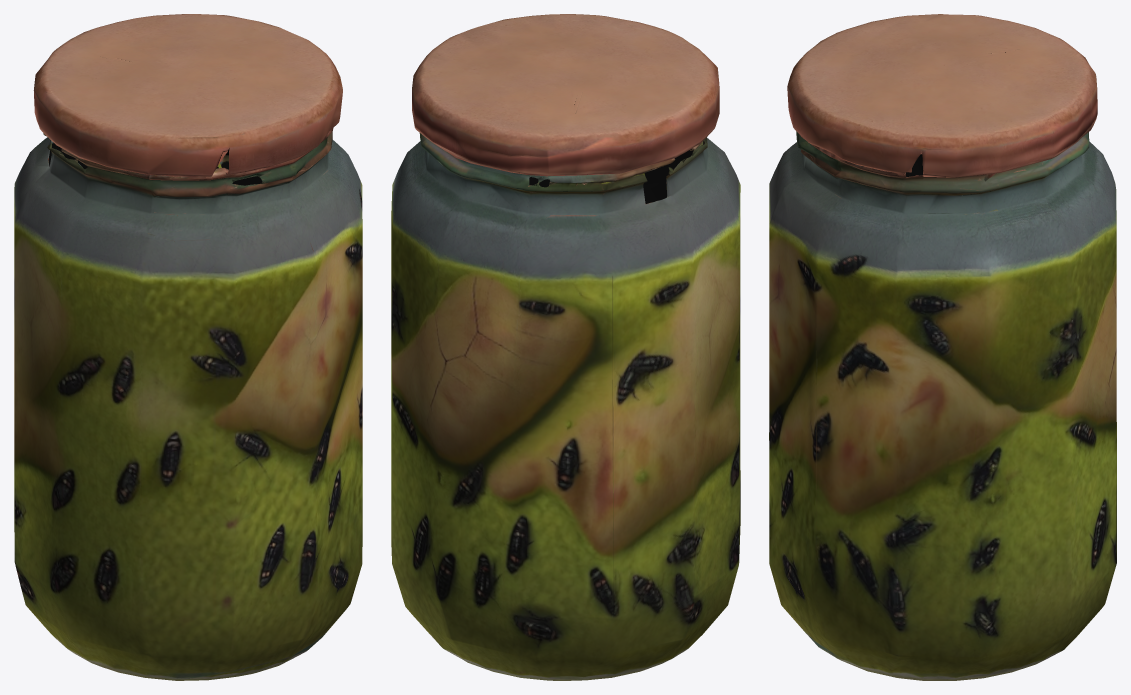
Rendered from item.obj.
3 renders of one model, left to right at view 1: azimuth 30°, elevation 25°; view 2: azimuth 150°, elevation 25°; view 3: azimuth 270°, elevation 25°, orthographic.
Visible parts, largest first — view 1: Meshy_AI_a_cracked_glass_jar_o_0607235314_texture; view 2: Meshy_AI_a_cracked_glass_jar_o_0607235314_texture; view 3: Meshy_AI_a_cracked_glass_jar_o_0607235314_texture.
Part boxes in pixels (x1,y1,x2,y2): Meshy_AI_a_cracked_glass_jar_o_0607235314_texture: (14, 14, 362, 680); Meshy_AI_a_cracked_glass_jar_o_0607235314_texture: (391, 14, 740, 680); Meshy_AI_a_cracked_glass_jar_o_0607235314_texture: (769, 14, 1116, 680).
Bounding box in the file's own units: 1.07 × 1.92 × 1.07.
1 material, 1 textured.
